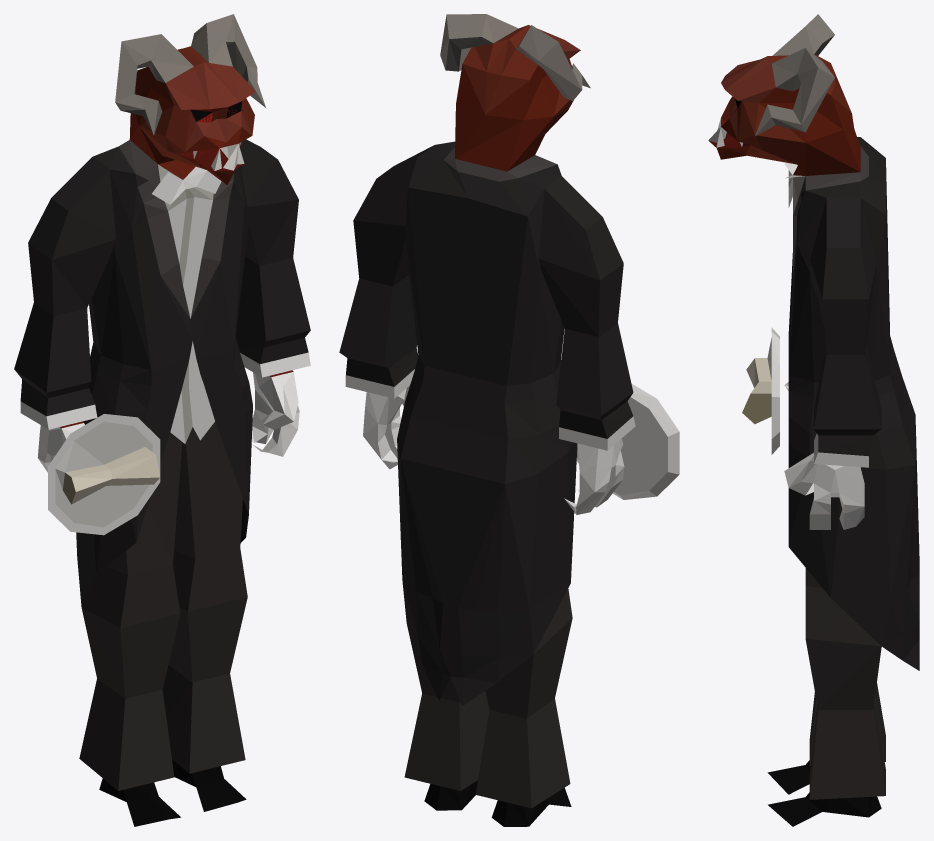
Rendered from bedroom-servant.gltf.
The picture shows the model from 3 angles, left to right: view 1: azimuth 30°, elevation 25°; view 2: azimuth 150°, elevation 25°; view 3: azimuth 270°, elevation 25°; orthographic projection. The views are drawn at different scales.
Bounding box in the file's own units: 76 × 199 × 50.
Materials: 1 (1 with a texture image).
